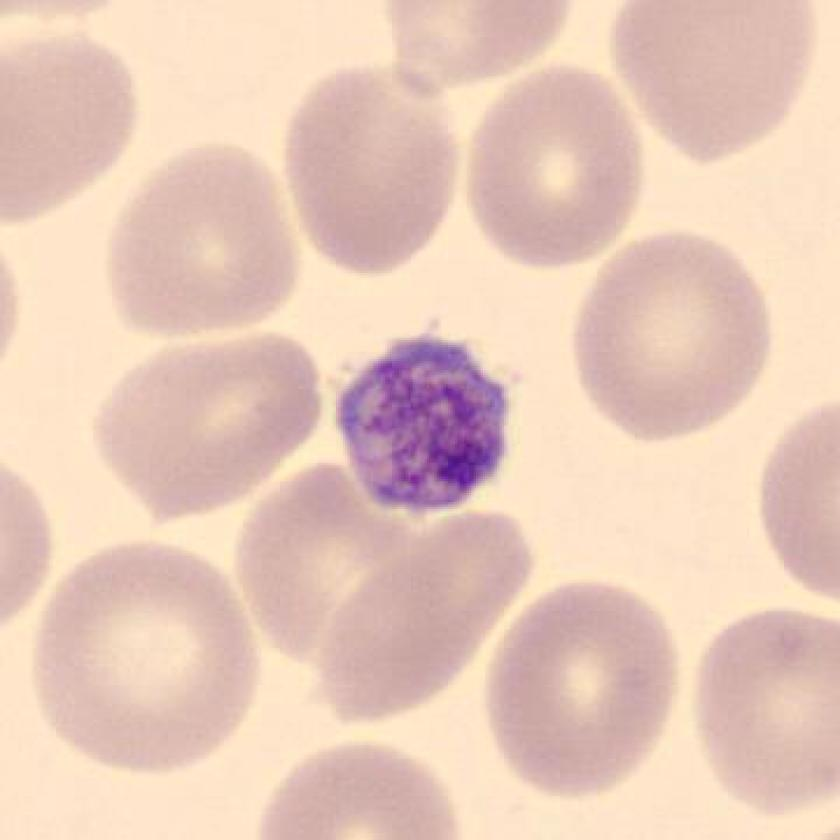platelets: (328, 321, 528, 527)
